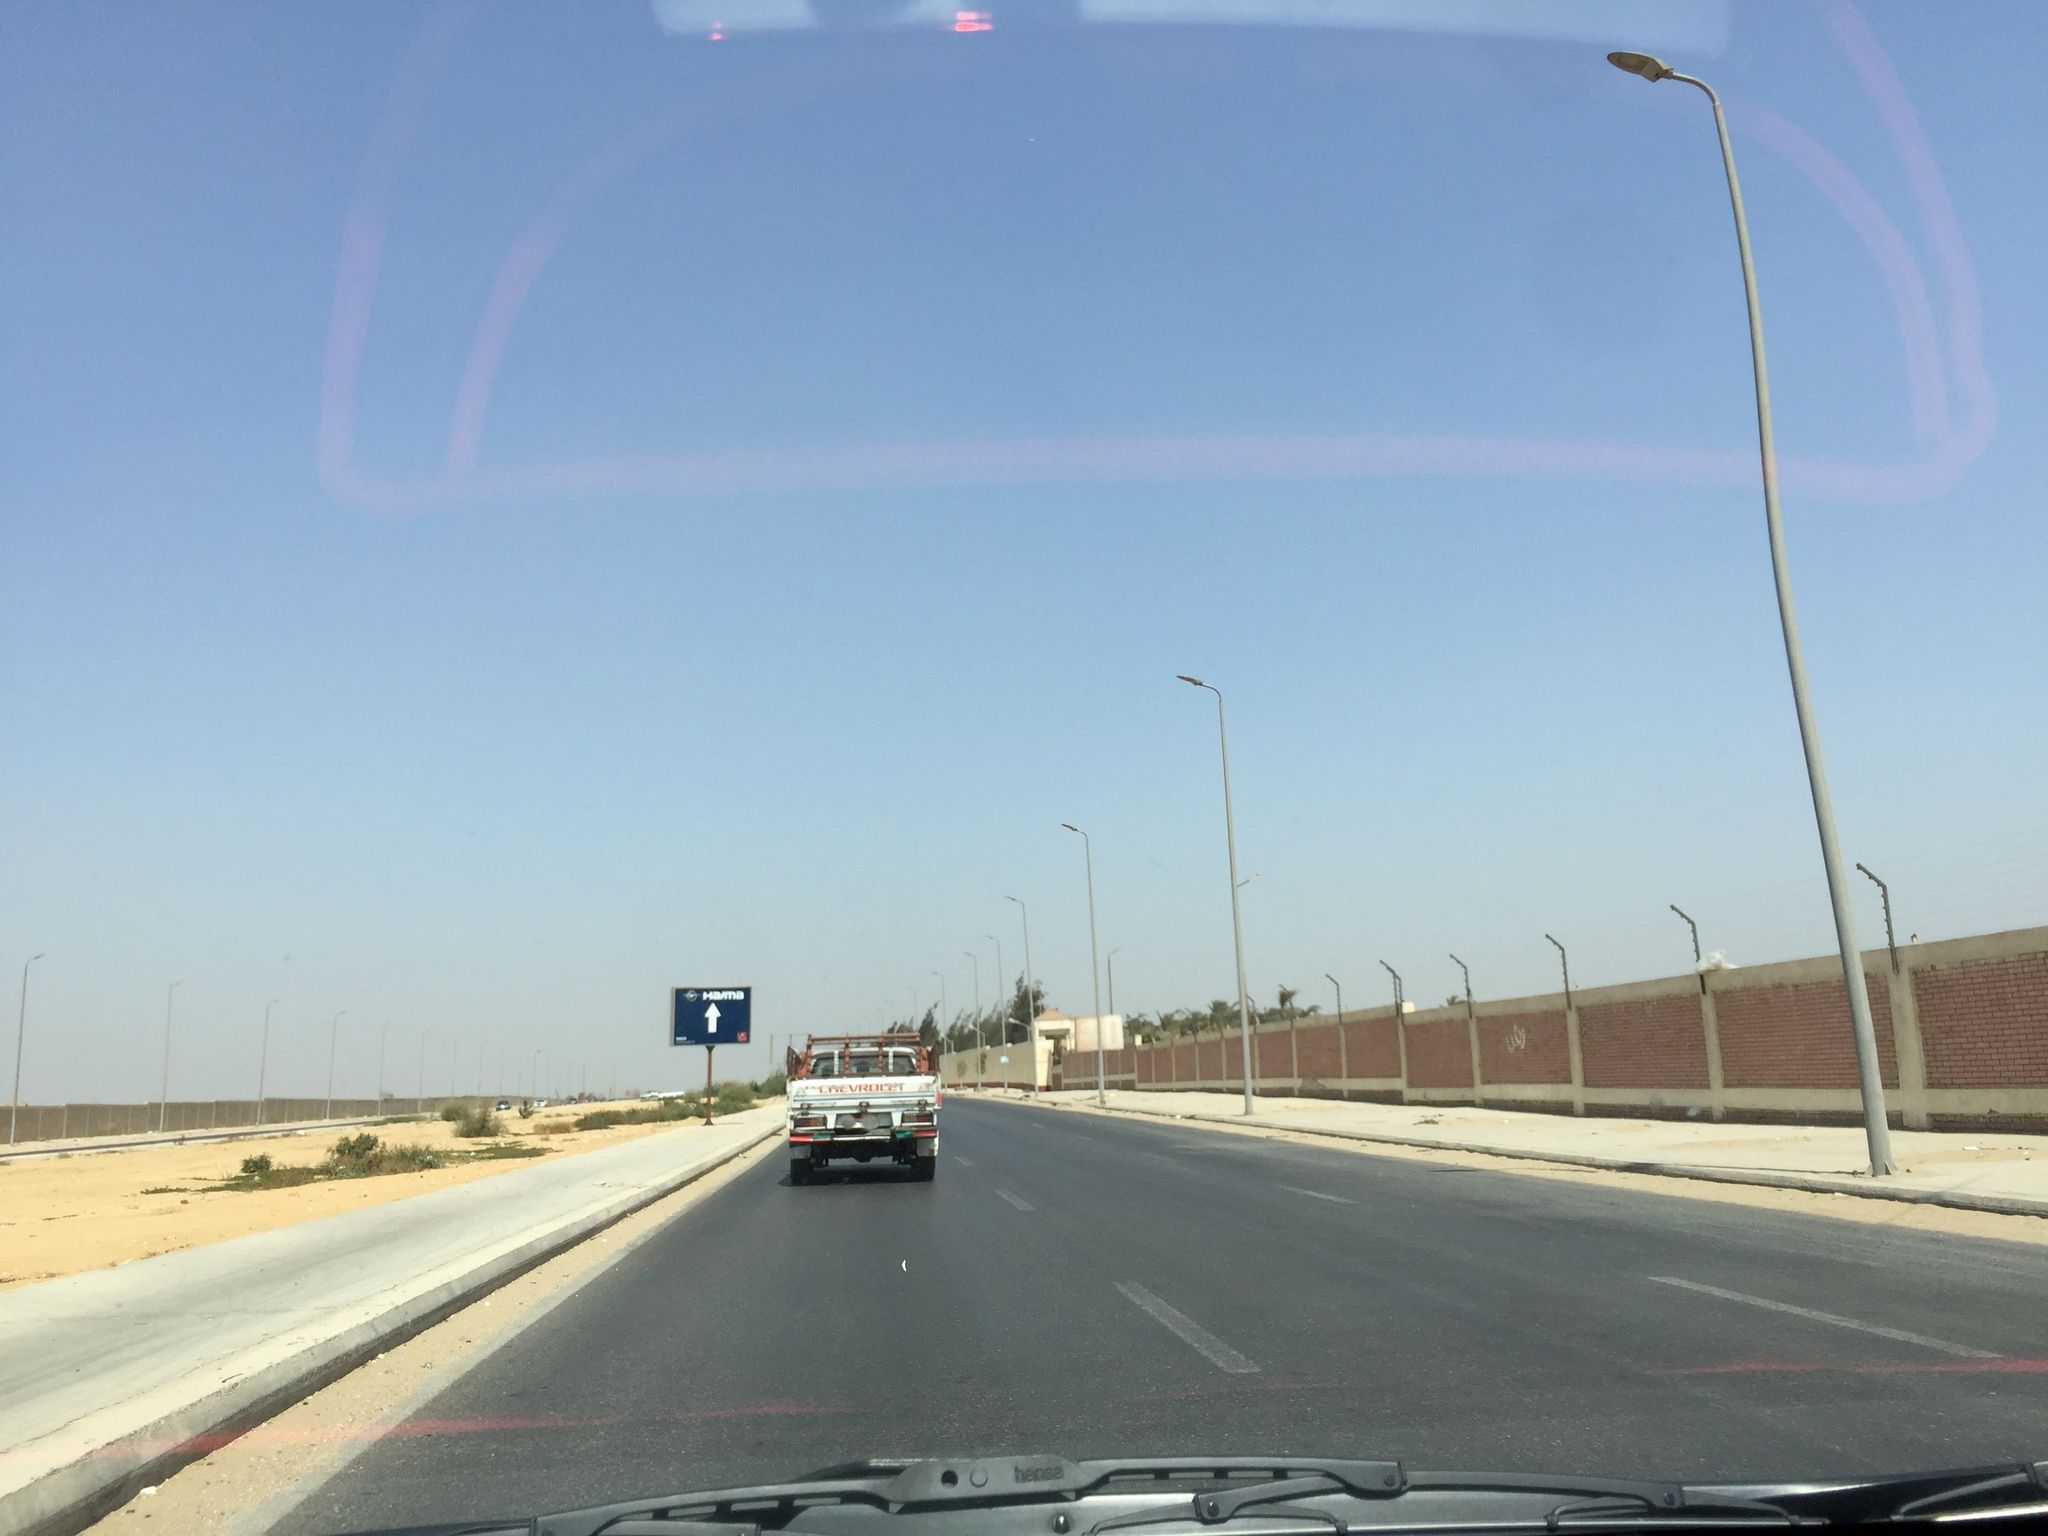truck: (784, 1028, 943, 1179)
